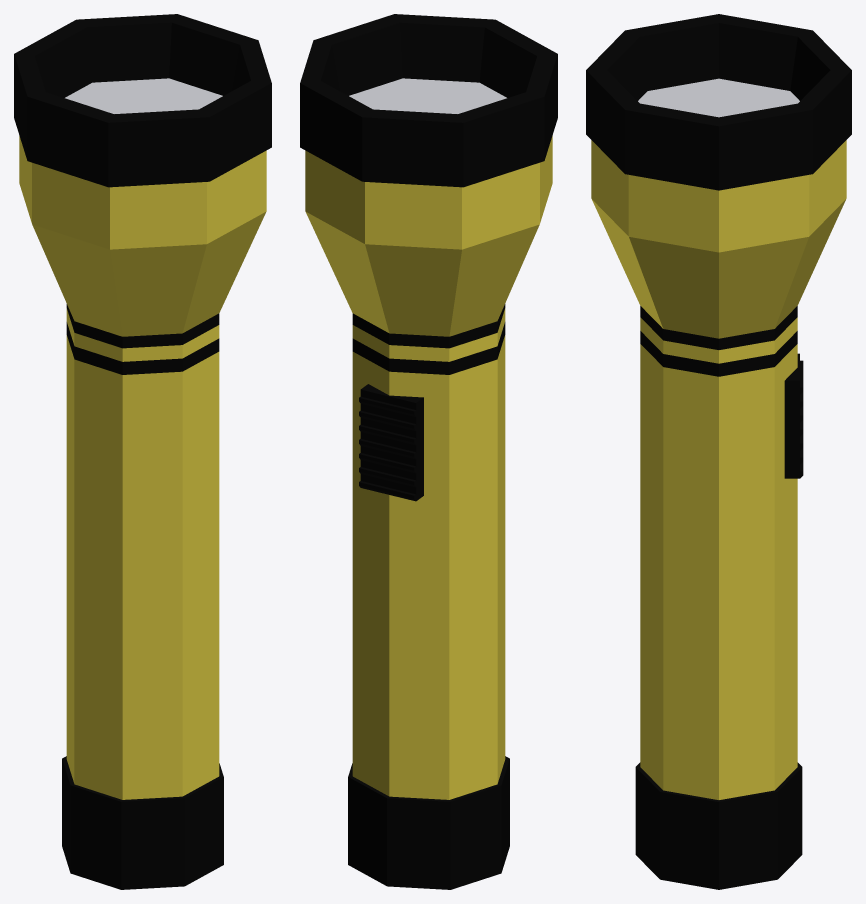
File: flashlight.fbx
The picture shows the model from 3 angles, left to right: view 1: azimuth 30°, elevation 25°; view 2: azimuth 150°, elevation 25°; view 3: azimuth 270°, elevation 25°; orthographic projection.
Visible parts, largest first — view 1: Cylinder.003; view 2: Cylinder.003; view 3: Cylinder.003.
Boxes of the visible parts, x1,y1,x2,y2 form: Cylinder.003: (14,14,271,889); Cylinder.003: (300,14,557,889); Cylinder.003: (586,14,851,889).
Size of the model in its own units: 32.02 by 104 by 32.02.
